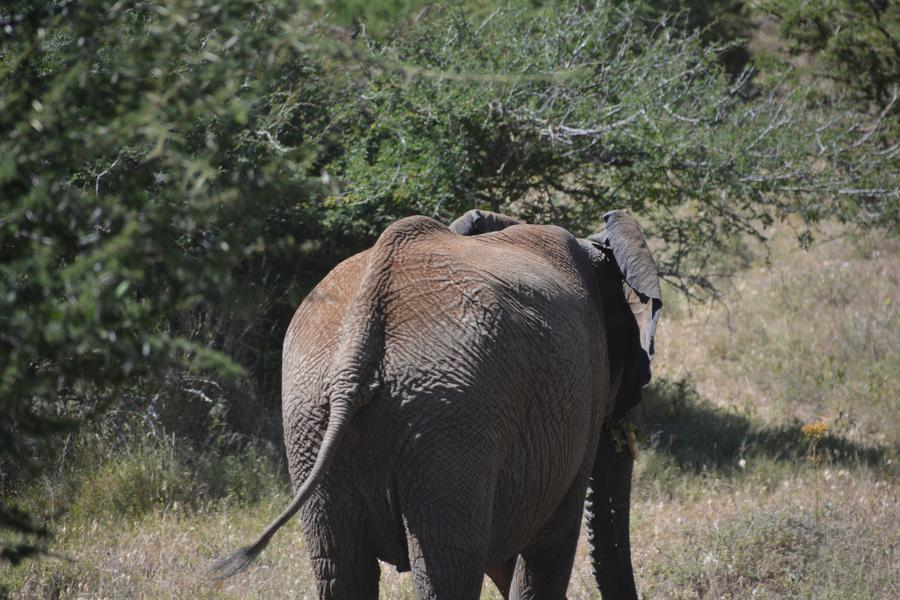elephant: (261, 208, 668, 599)
